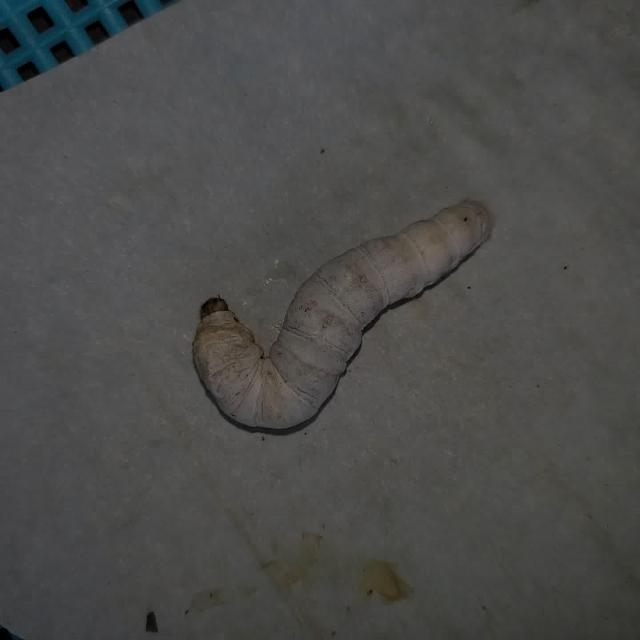Grasserie: (183, 182, 497, 451)
